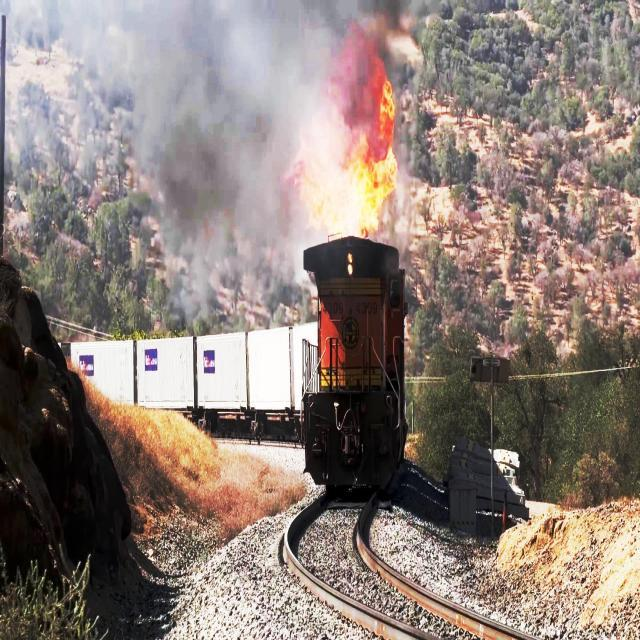Smoke: (285, 40, 392, 236)
